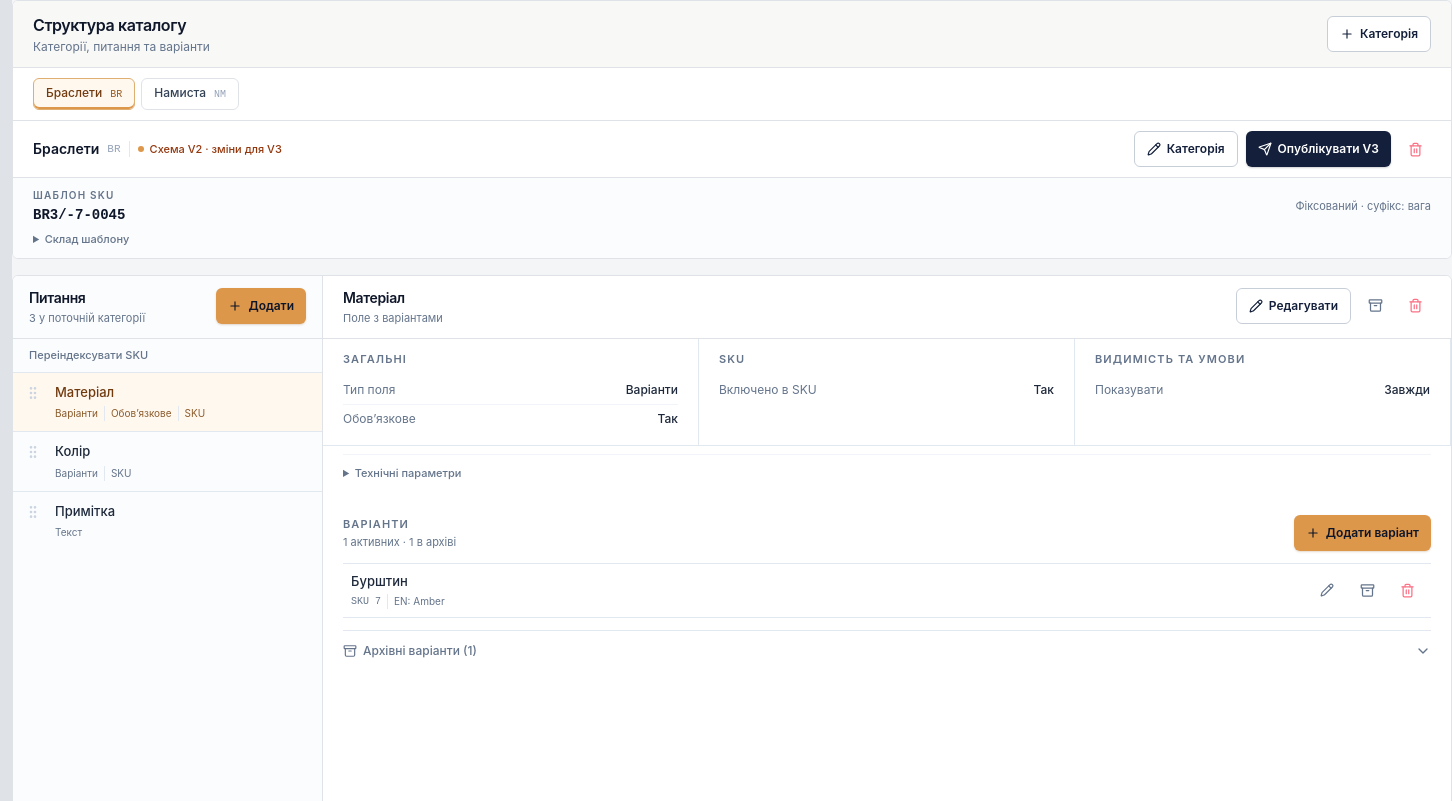
marks only an edited open category draft dirty and clears the navigation guard on cancel and unmount
Click the button "Категорія" in the row of "Категорії, питання та варіанти": (1379, 34) [1327,16,1431,52]
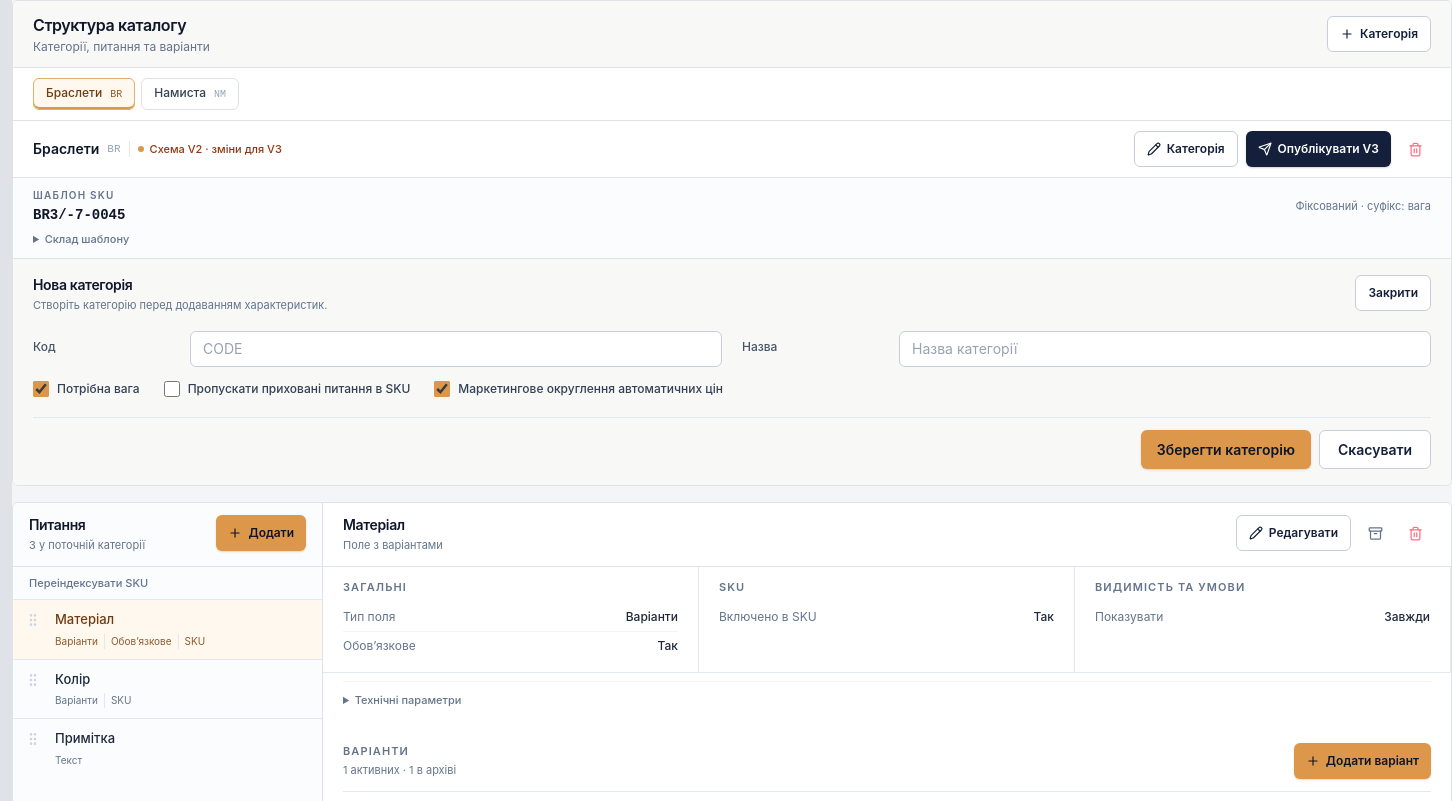
In the field labelled "Код": (456, 349) [190,331,722,367], type "ar"
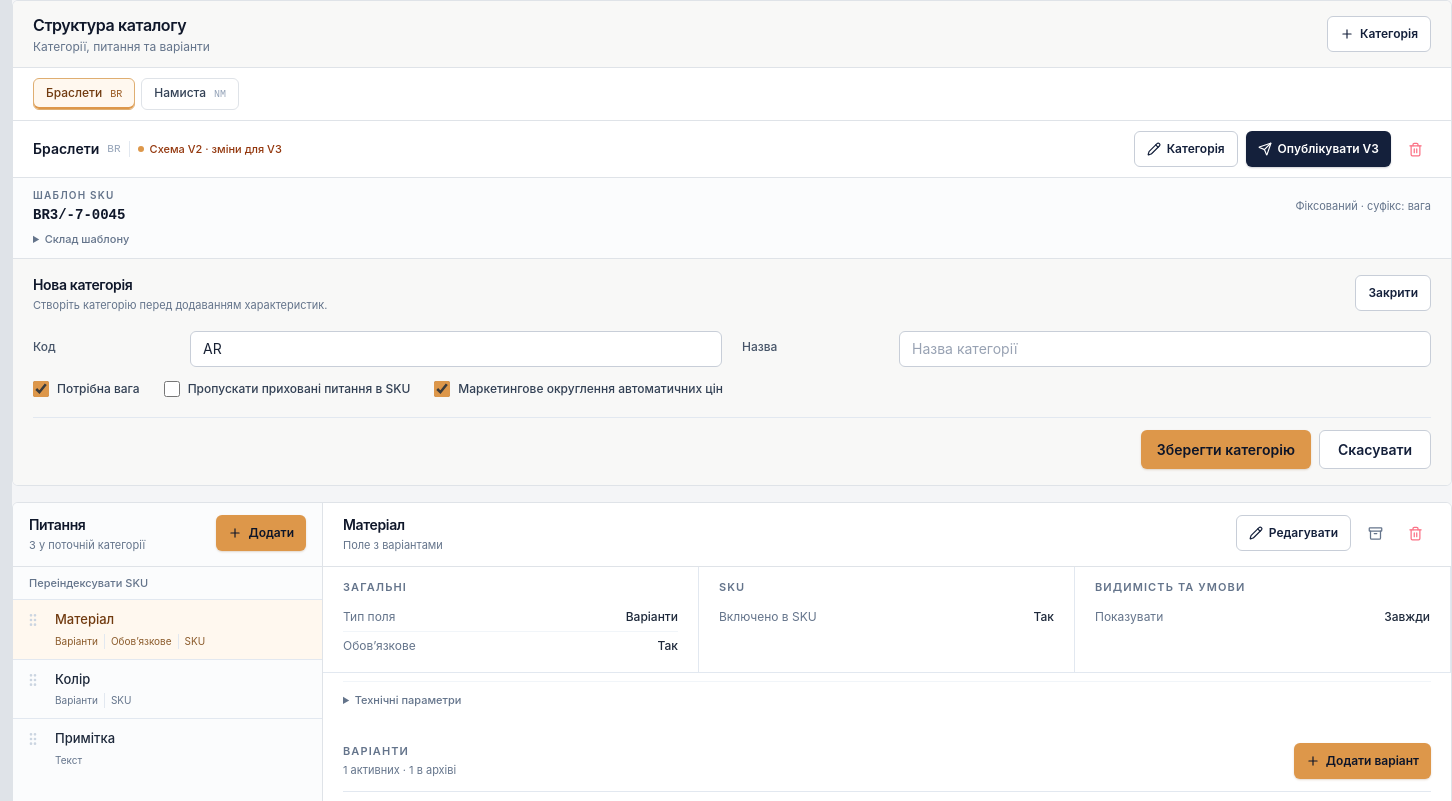
Click the button "Скасувати": (1375, 450) [1319,430,1431,469]
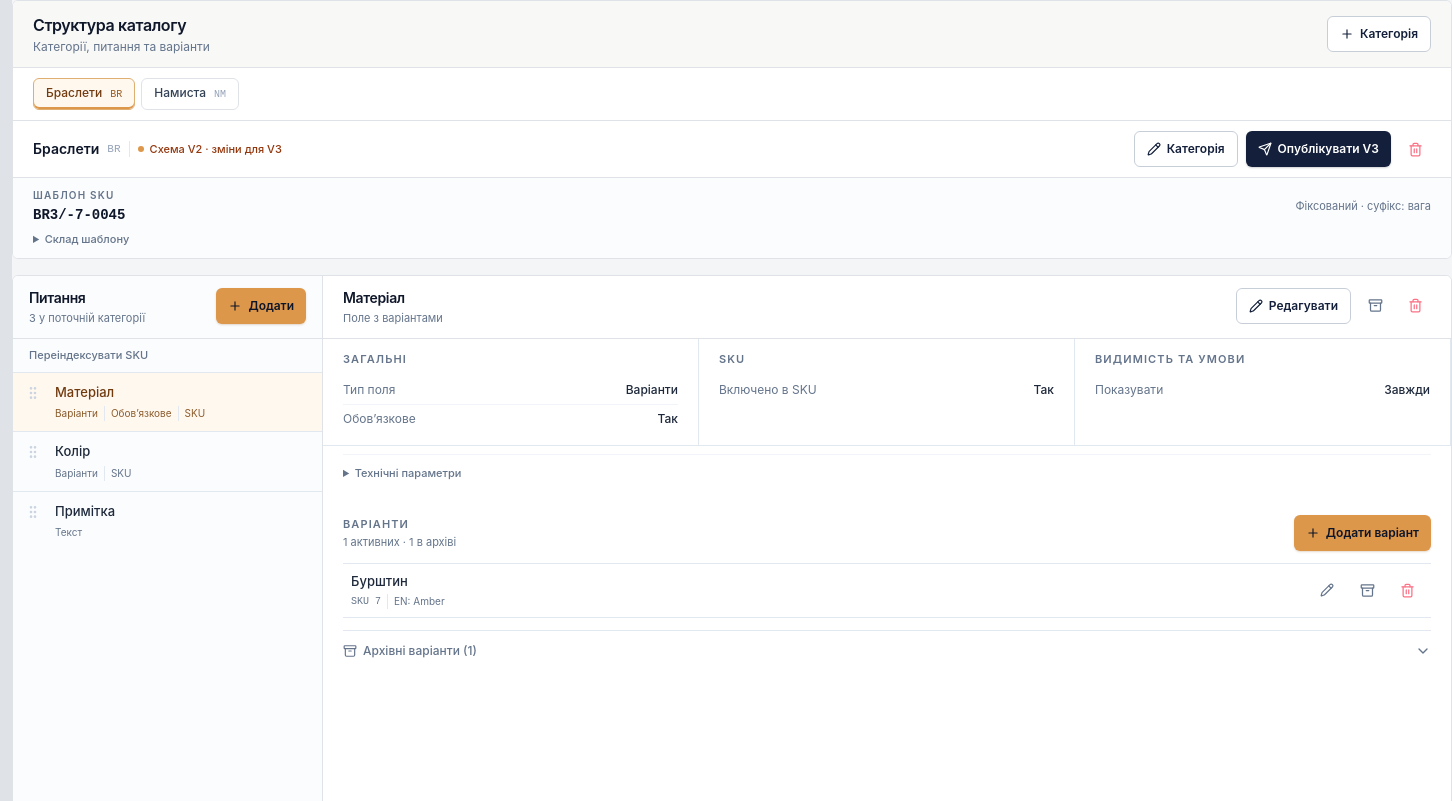
Expected: the heading "Нова категорія" is gone
